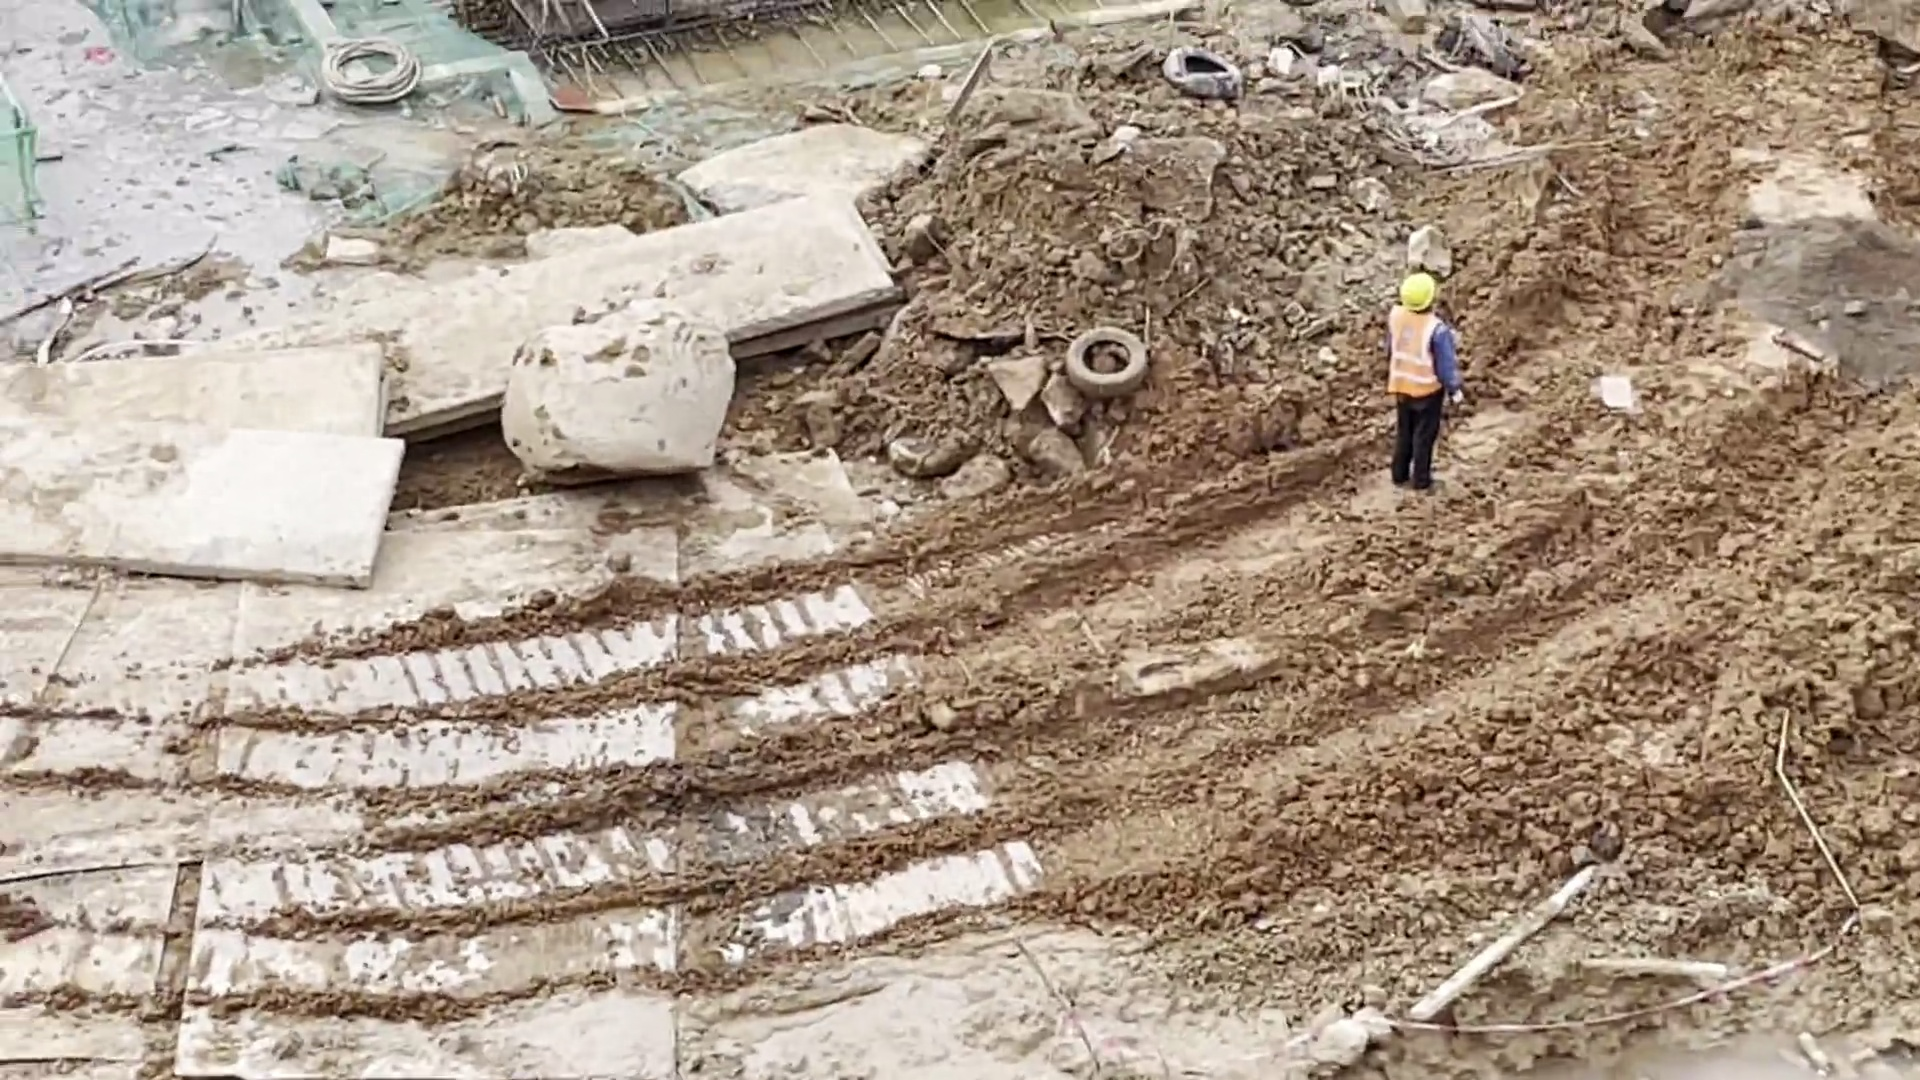helmet: (1399, 272, 1434, 309)
person: (1382, 271, 1461, 492)
vest: (1389, 309, 1437, 398)
